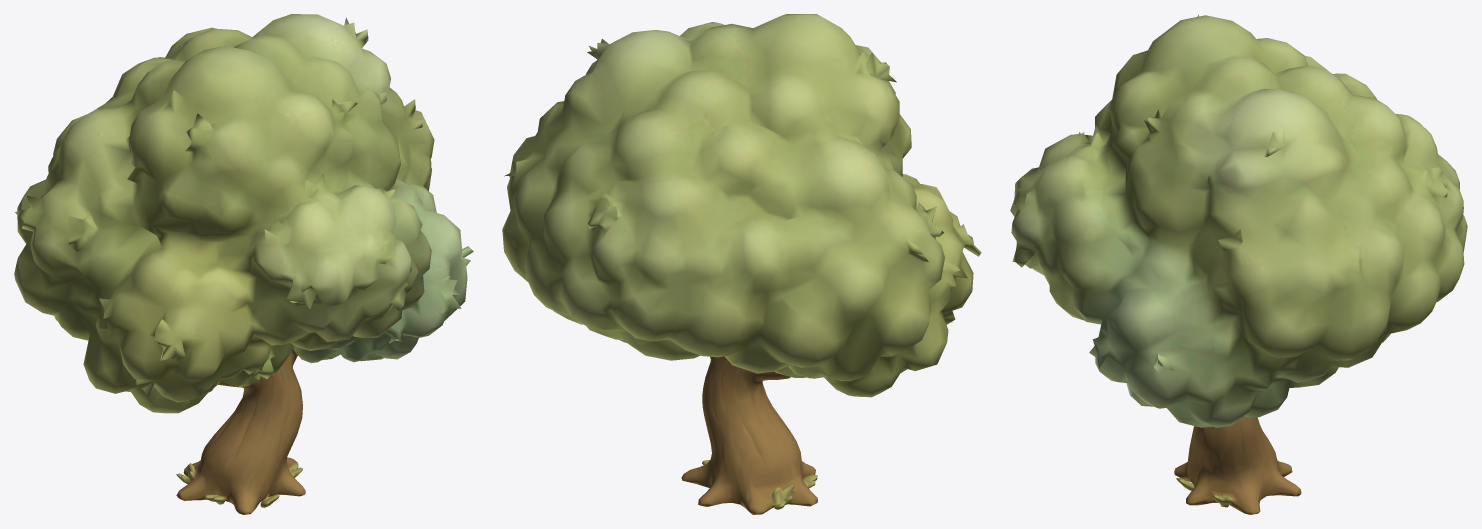
File: prop_tree_round.glb
3 views of the same model, side by side, from view 1: azimuth 30°, elevation 25°; view 2: azimuth 150°, elevation 25°; view 3: azimuth 270°, elevation 25° (orthographic). The views are drawn at different scales.
Parts seen in each view (by area): view 1: tripo_node_c0532f41-ea6b-46d4-bb64-ba856252d2bb; view 2: tripo_node_c0532f41-ea6b-46d4-bb64-ba856252d2bb; view 3: tripo_node_c0532f41-ea6b-46d4-bb64-ba856252d2bb.
Boxes of the visible parts, x1=… form: tripo_node_c0532f41-ea6b-46d4-bb64-ba856252d2bb: x1=14, y1=14, x2=473, y2=514; tripo_node_c0532f41-ea6b-46d4-bb64-ba856252d2bb: x1=502, y1=14, x2=981, y2=514; tripo_node_c0532f41-ea6b-46d4-bb64-ba856252d2bb: x1=1010, y1=14, x2=1467, y2=514.
Size of the model in its own units: 0.9241 by 1 by 0.9143.
1 material, 1 textured.
